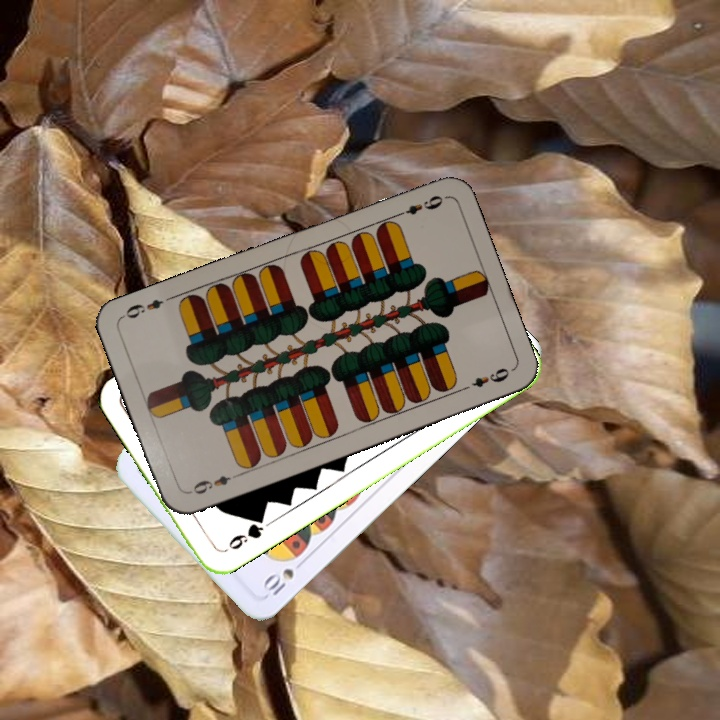E9: (391, 191, 446, 220), (185, 471, 233, 497)
G9: (218, 512, 267, 556)
S10: (259, 554, 309, 601)
